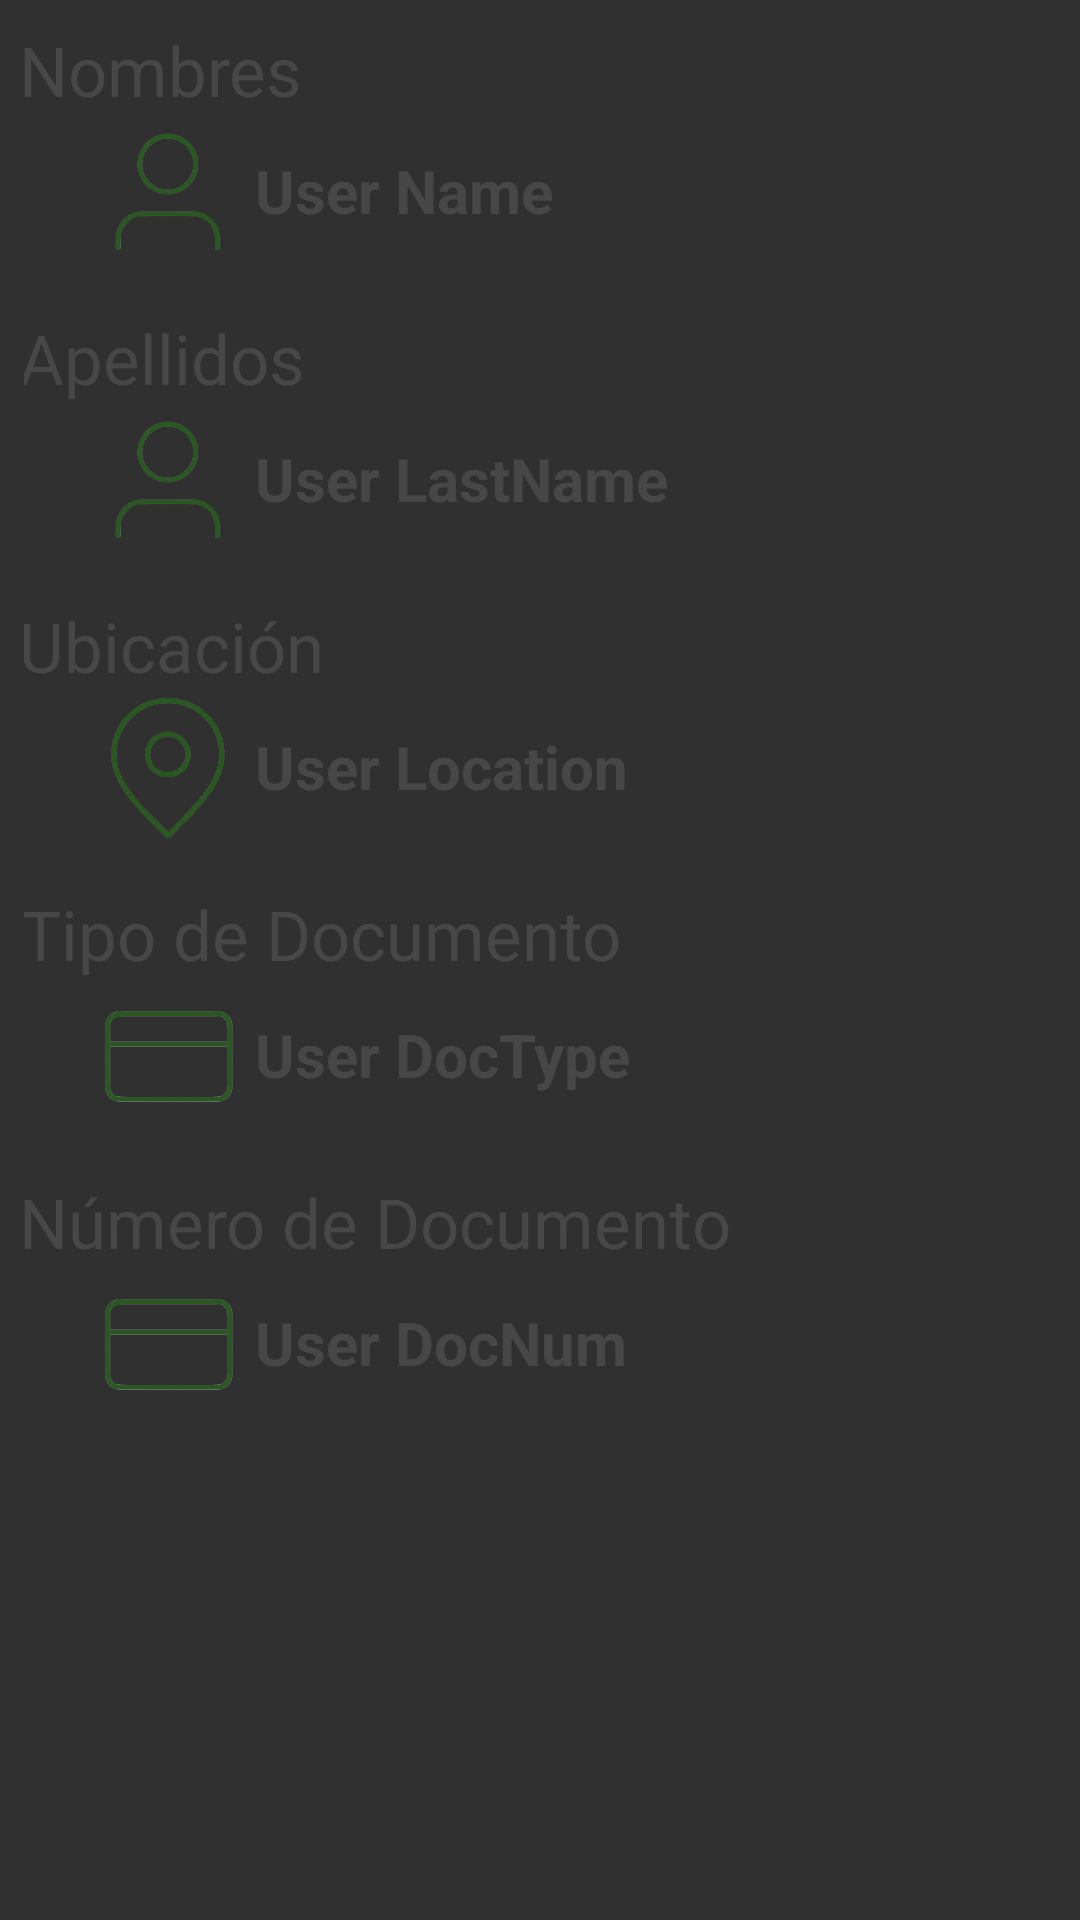

Icons on this 1080*1920 Android screen, each with its box as region(x1, y1, x2, y2):
doc: region(105, 1011, 233, 1102), region(105, 1299, 233, 1390)
profile: region(116, 134, 220, 250), region(116, 422, 220, 538)
